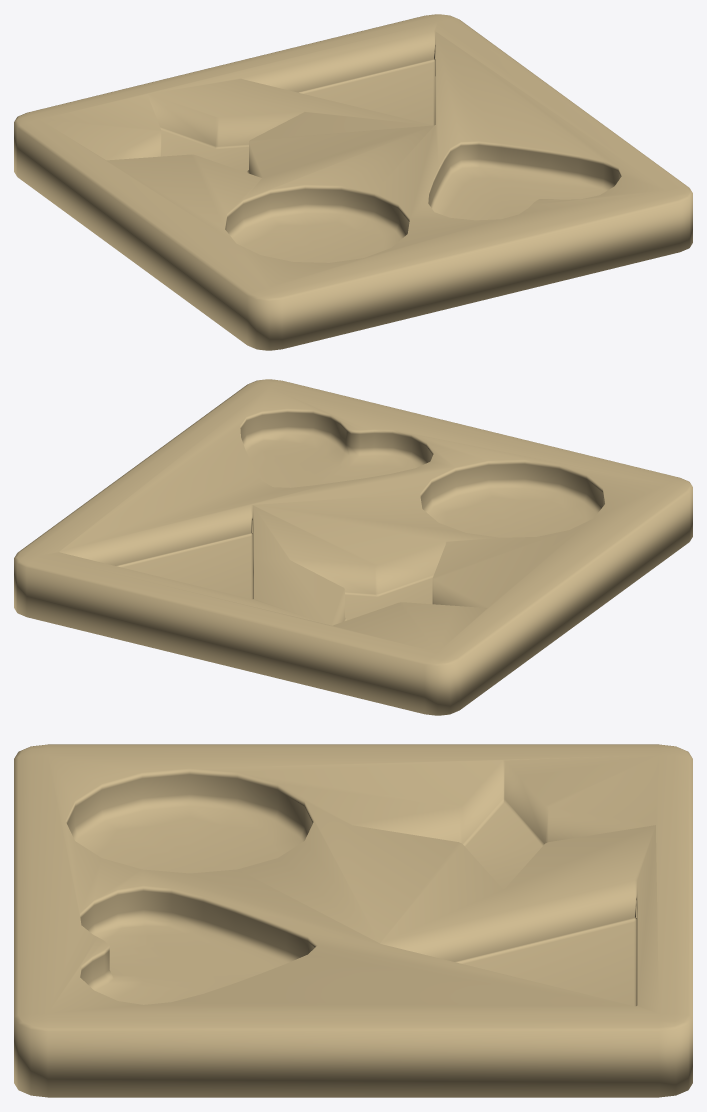
File: BaseFiguras.fbx
3 views of the same model, one above another, from view 1: azimuth 30°, elevation 25°; view 2: azimuth 150°, elevation 25°; view 3: azimuth 270°, elevation 25° (orthographic). The views are drawn at different scales.
Visible parts, largest first — view 1: figuras; view 2: figuras; view 3: figuras.
Boxes of the visible parts, x1,y1,x2,y2 form: figuras: (14,14,692,350); figuras: (14,379,692,715); figuras: (14,744,692,1097).
Bounding box in the file's own units: 0.4354 × 0.4354 × 0.0519.
